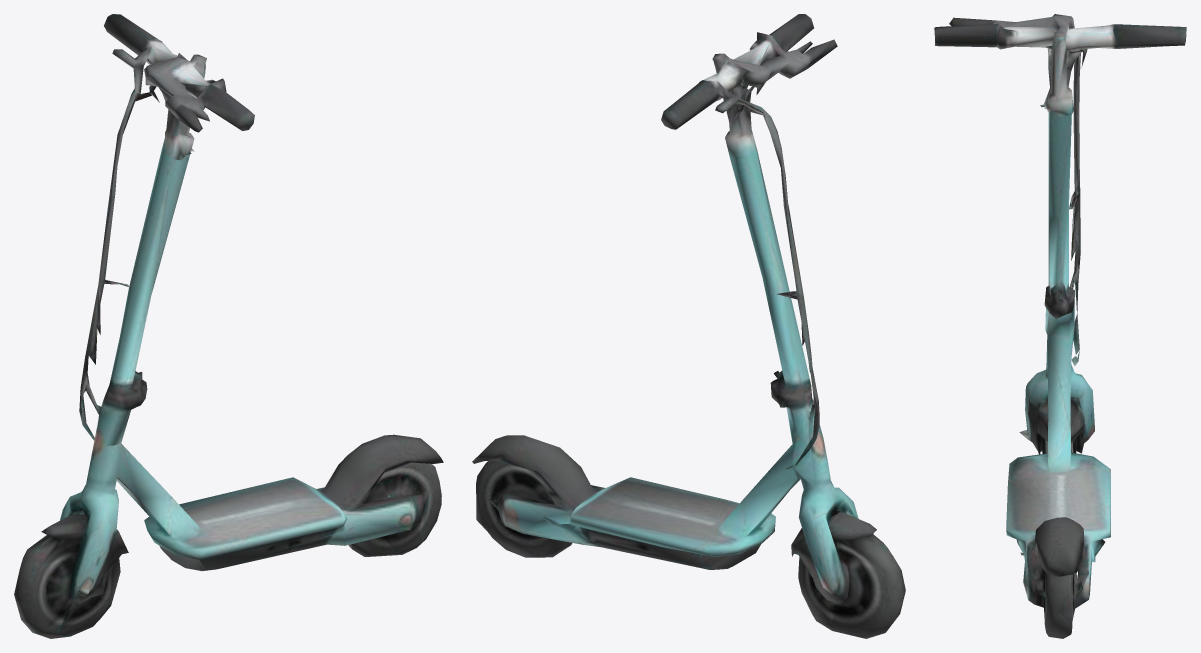
Rendered from vehicle-kickboard.glb.
The picture shows the model from 3 angles, left to right: view 1: azimuth 30°, elevation 25°; view 2: azimuth 150°, elevation 25°; view 3: azimuth 270°, elevation 25°; orthographic projection. The views are drawn at different scales.
Size of the model in its own units: 1.62 by 2 by 0.8888.
1 material, 1 textured.
